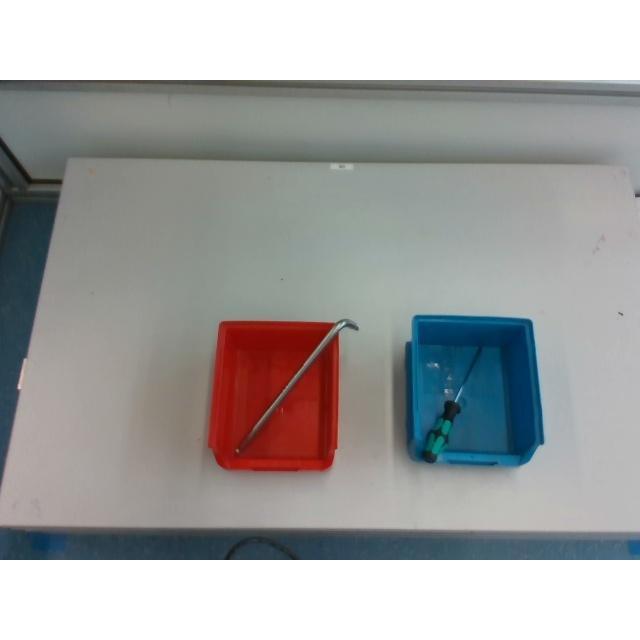AllenKey: (234, 318, 358, 454)
Screwdriver: (421, 346, 483, 462)
container_box_blue: (406, 314, 542, 466)
container_box_red: (208, 320, 342, 472)
